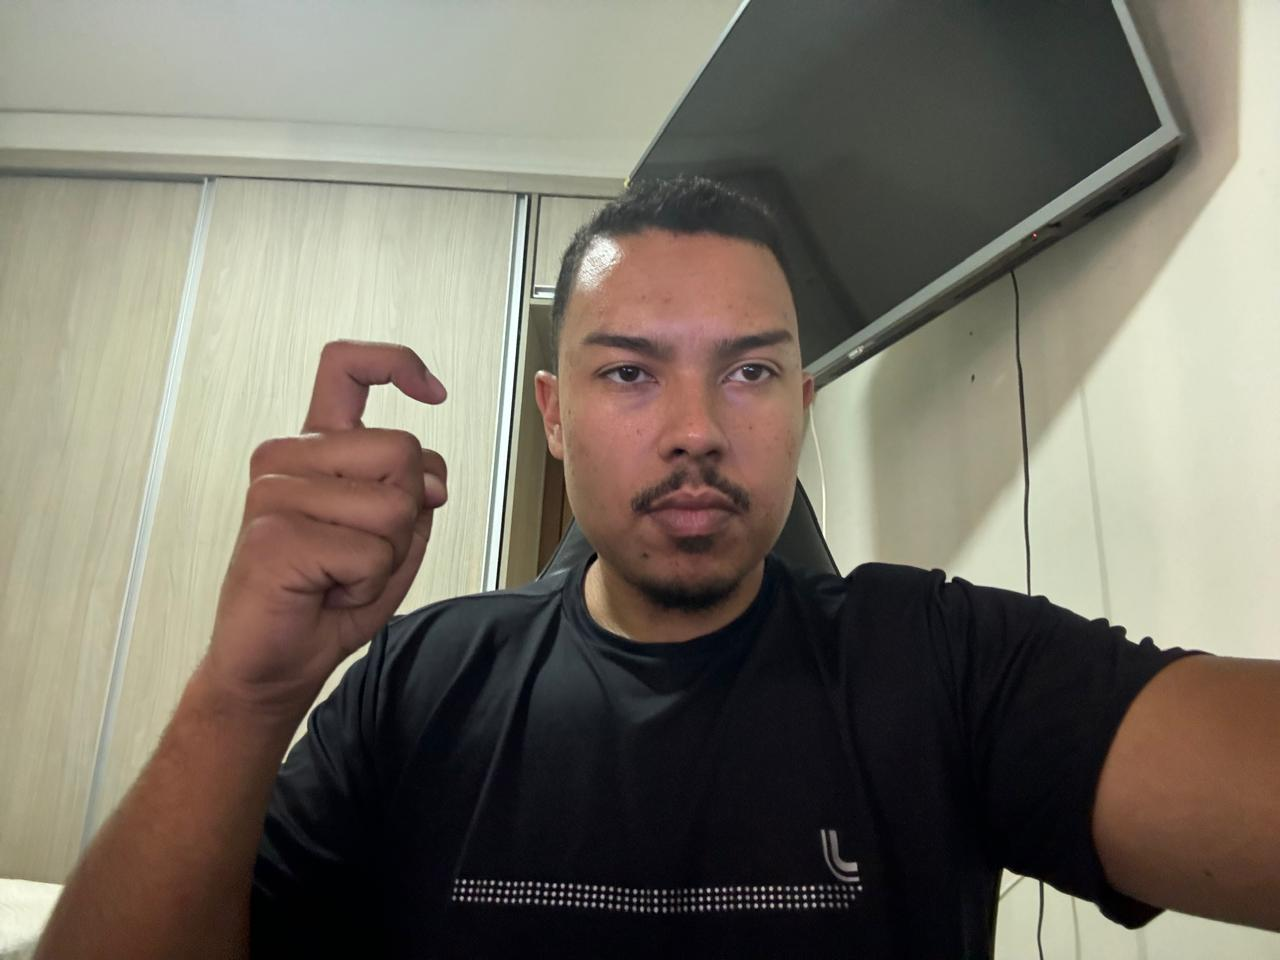x: (210, 331, 467, 719)
